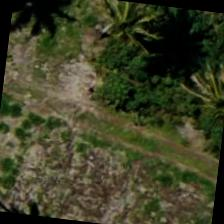Kelapa_Sawit: (74, 0, 172, 73), (171, 56, 223, 152)
